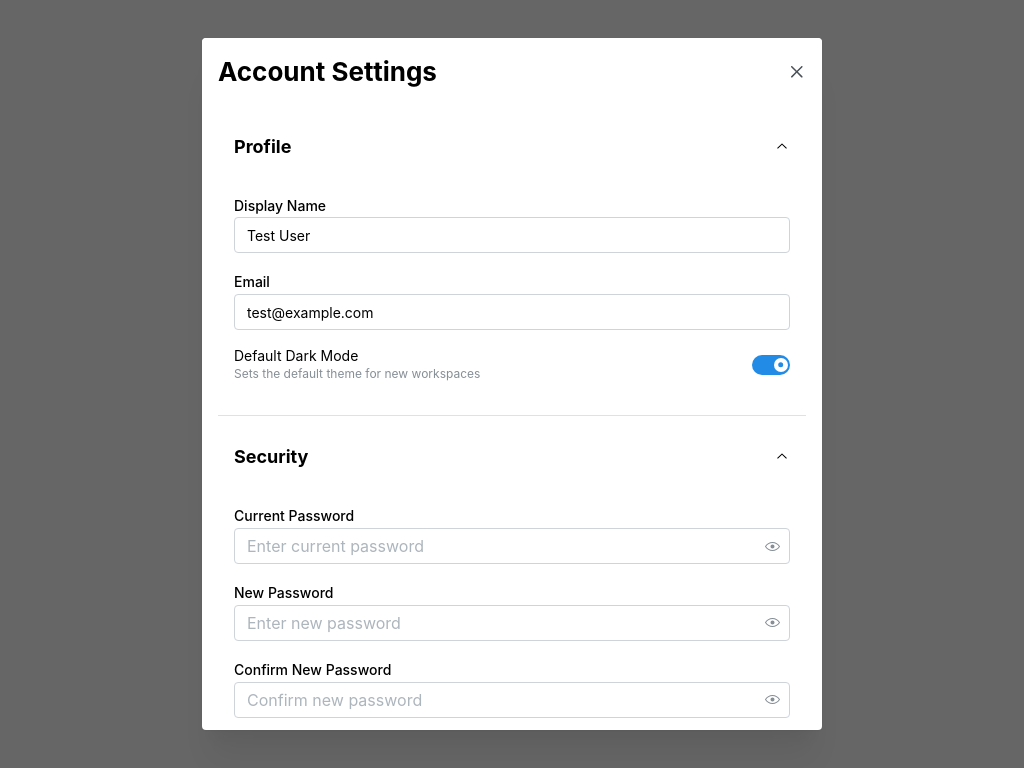
Test: AccountSettings › enables save button when there are changes
Replace the text in the field with test id "display-name-input" with "Updated Name". click: (512,235)
box: x1=234 y1=217 x2=790 y2=253
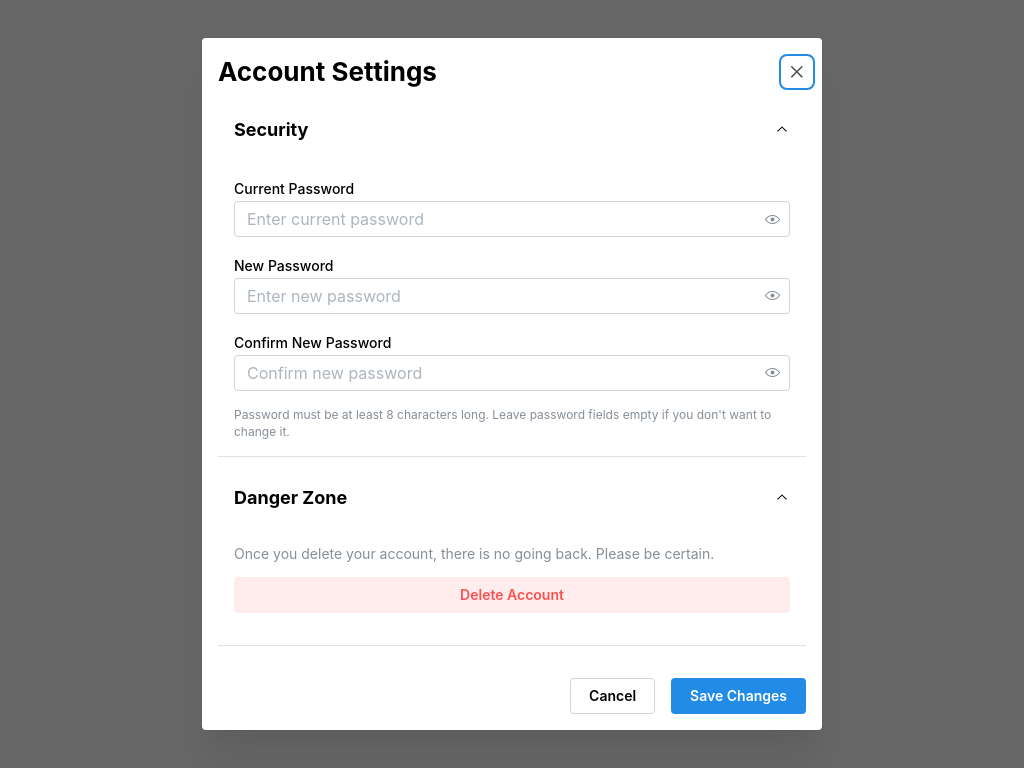
Check: the button "Save Changes" is enabled, box x1=671 y1=678 x2=806 y2=714
